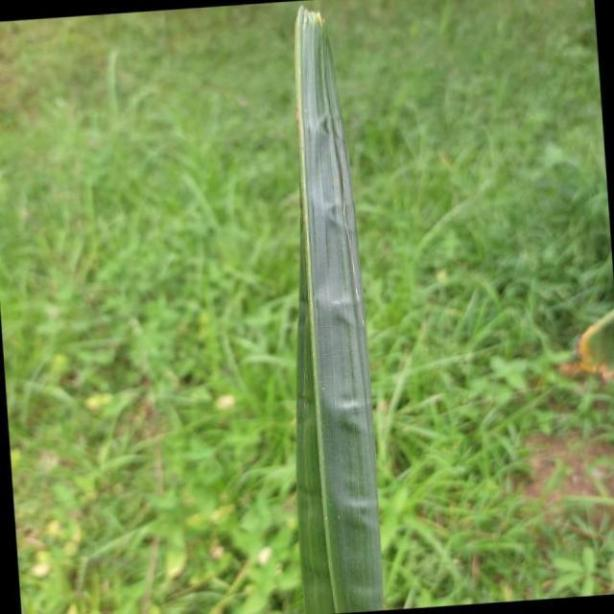Boron: (292, 1, 385, 614)
